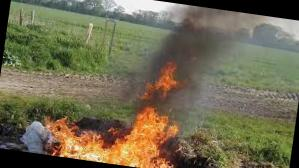Fire: (36, 92, 186, 168)
Smoke: (129, 0, 225, 133)
